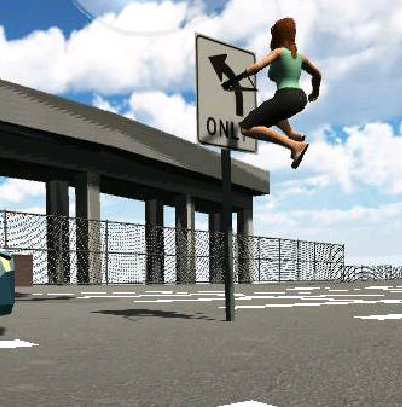arrow_left: (201, 52, 247, 117)
